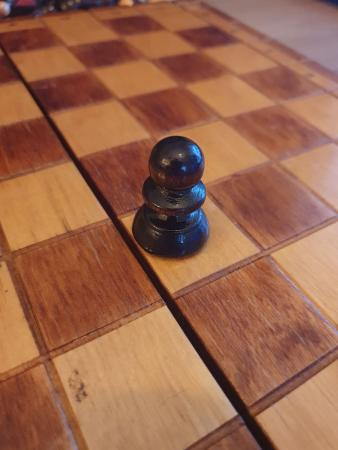bpawn: (131, 136, 211, 260)
